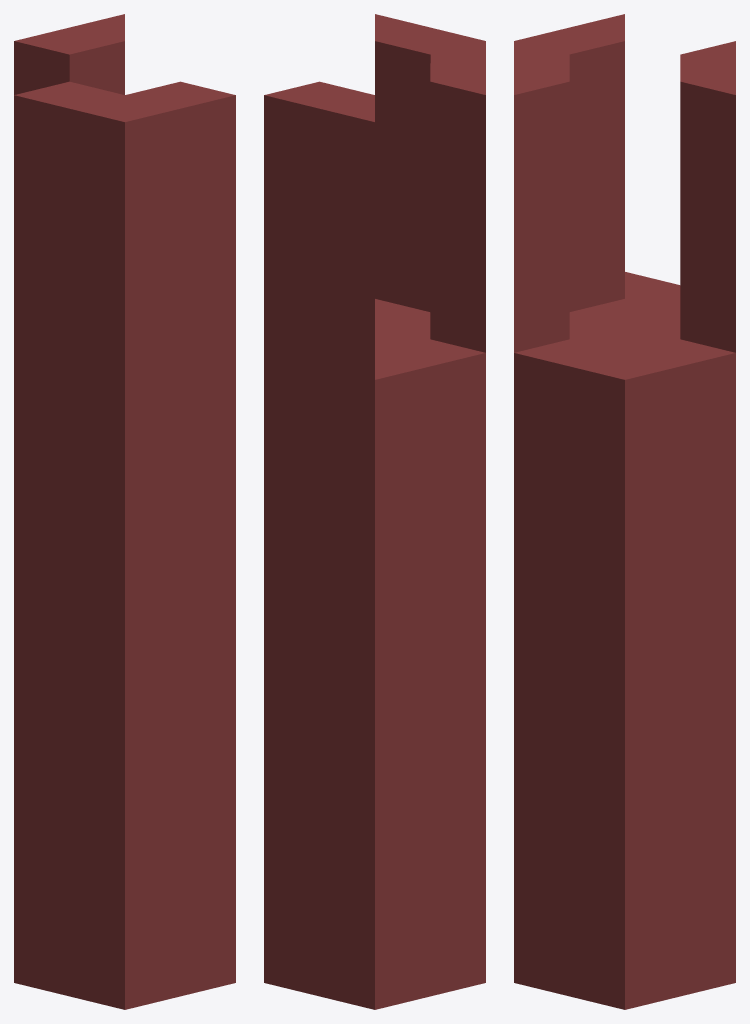
File: Hex_Tall_4.fbx
The picture shows the model from 3 angles, left to right: view 1: azimuth 30°, elevation 25°; view 2: azimuth 150°, elevation 25°; view 3: azimuth 270°, elevation 25°; orthographic projection.
Parts seen in each view (by area): view 1: TileHex4; view 2: TileHex4; view 3: TileHex4.
Boxes of the visible parts, <box> form: TileHex4: <box>14,14,235,1009</box>; TileHex4: <box>264,14,485,1009</box>; TileHex4: <box>514,14,735,1009</box>.
Bounding box in the file's own units: 118 × 450 × 102.
